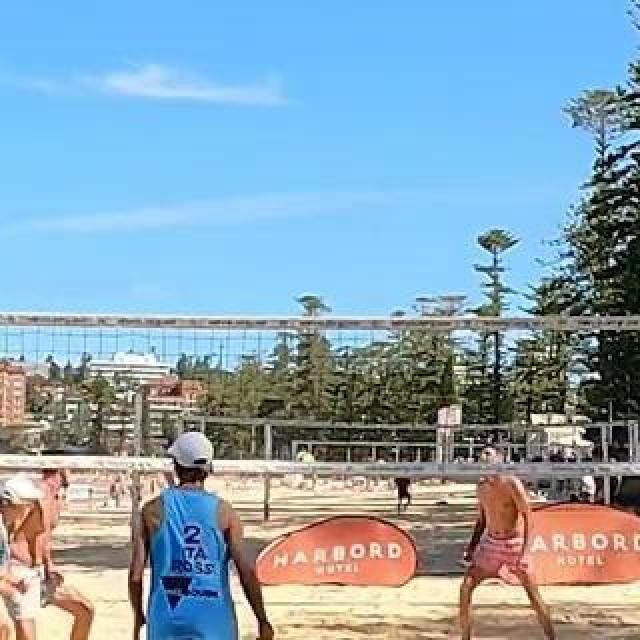volleyball: (295, 451, 313, 467)
